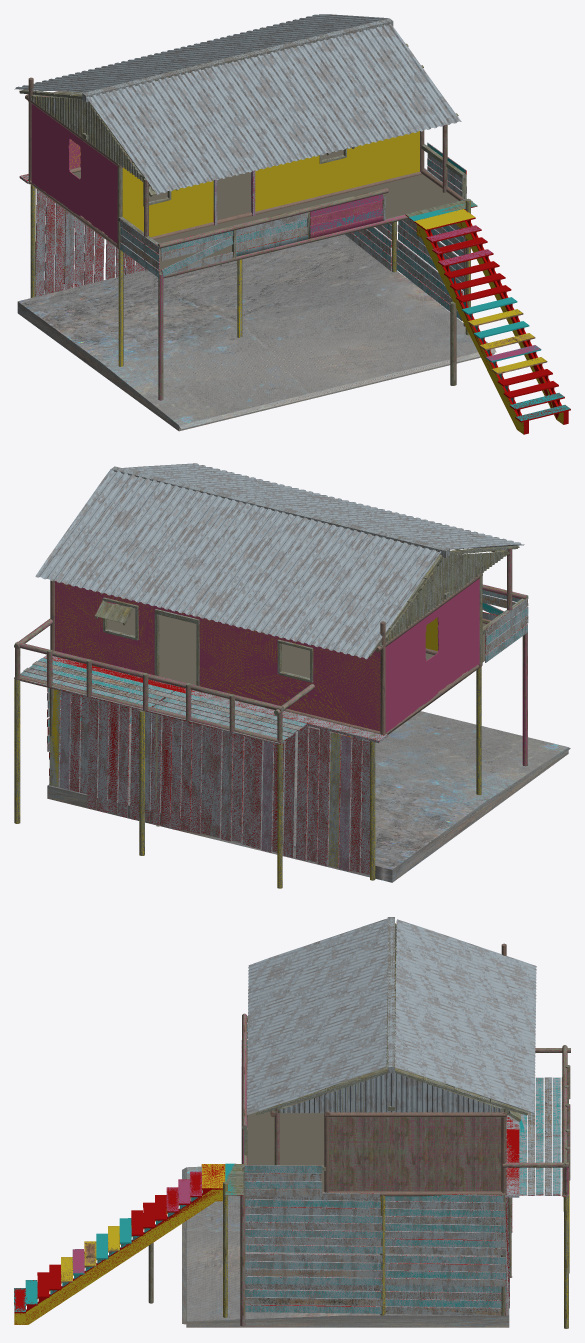
Rendered from Resident 1.fbx.
3 renders of one model, top to bottom at view 1: azimuth 30°, elevation 25°; view 2: azimuth 150°, elevation 25°; view 3: azimuth 270°, elevation 25°, orthographic. The views are drawn at different scales.
Parts seen in each view (by area): view 1: Group1; view 2: Group1; view 3: Group1.
Part boxes in pixels (x1,y1,x2,y2): Group1: (14, 14, 570, 434); Group1: (14, 463, 570, 888); Group1: (14, 917, 570, 1328).
Size of the model in its own units: 530 by 418 by 801.
